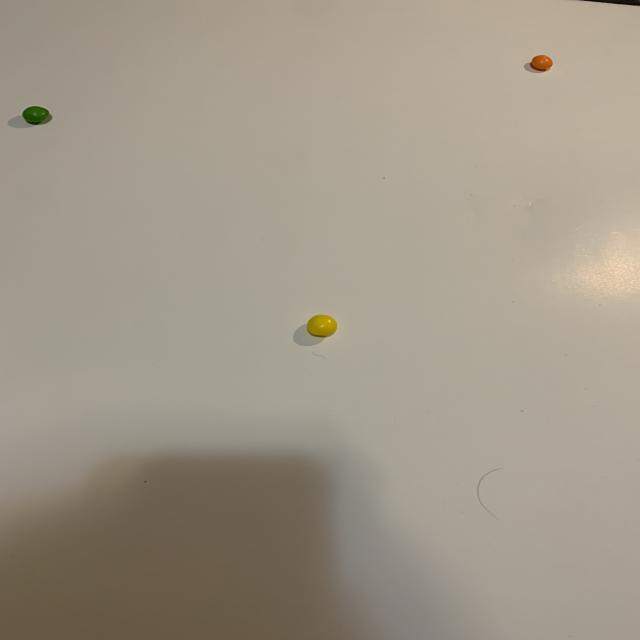smartie: (306, 315, 337, 337), (21, 105, 48, 123), (531, 54, 554, 70)
